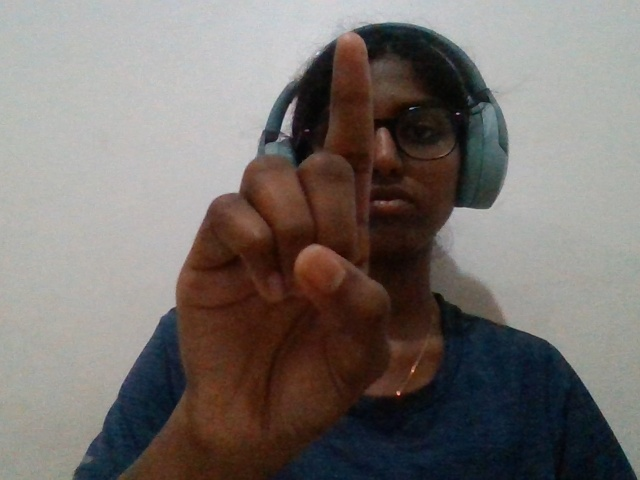D: (154, 22, 402, 472)
